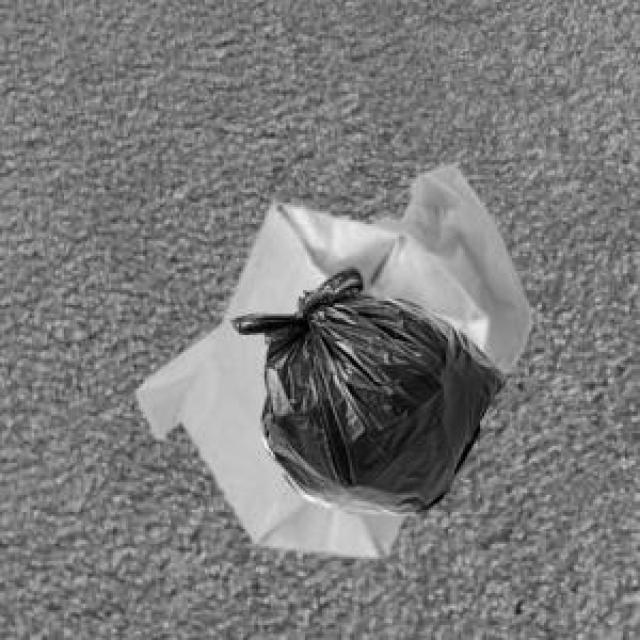miscellaneous trash: (228, 265, 501, 512)
paper: (175, 198, 482, 553)
